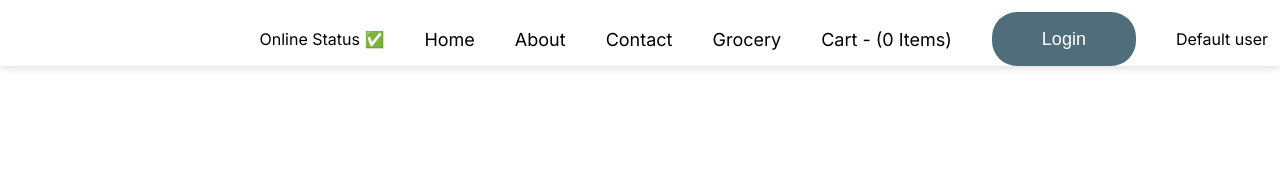
it: should load header with a login button
Click the button "Login" at (1064, 39), box [992, 12, 1136, 66]
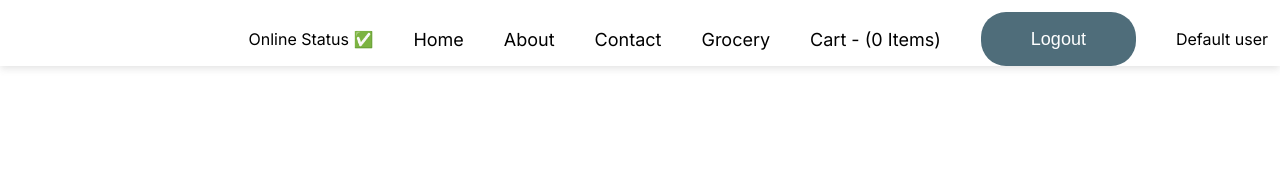
expect the button "Logout" is shown: met, box [981, 12, 1136, 66]
